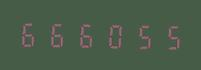five: (153, 20, 179, 51), (126, 20, 152, 50)
six: (17, 18, 43, 49), (44, 19, 70, 49), (72, 19, 98, 49)
zero: (99, 19, 125, 50)
